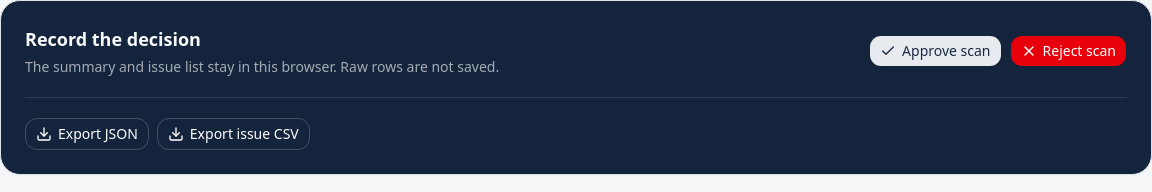
Scenario: ScanActions › saves a rejected decision and reflects the selected state
Click the button "Reject scan" at {"x": 1068, "y": 51}, box [1010,35,1127,67]
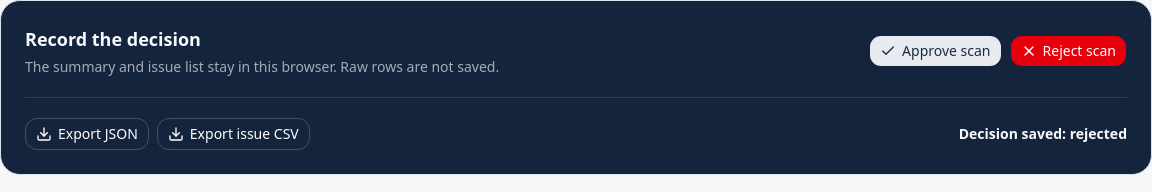
Result: the text "Decision saved: rejected" is shown at [959,124,1127,144]
